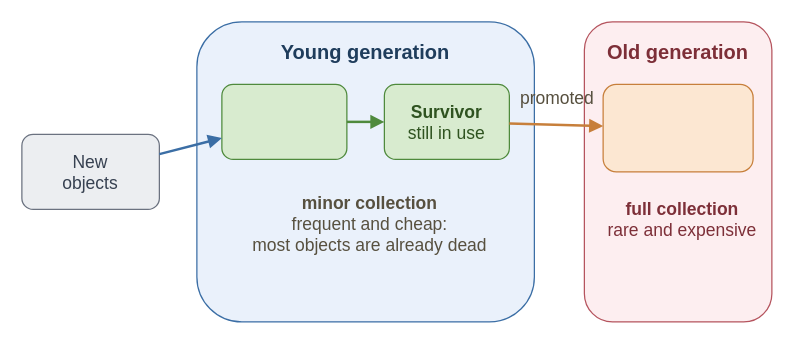
Some shapes in this 794 by 344 pixel diagram are drawn without their labels. The centre of each missing label's shape, as x and y in pixels:
Eden allocated here: (x=284, y=121)
long-lived data: cached blocks, big tables: (x=677, y=127)
